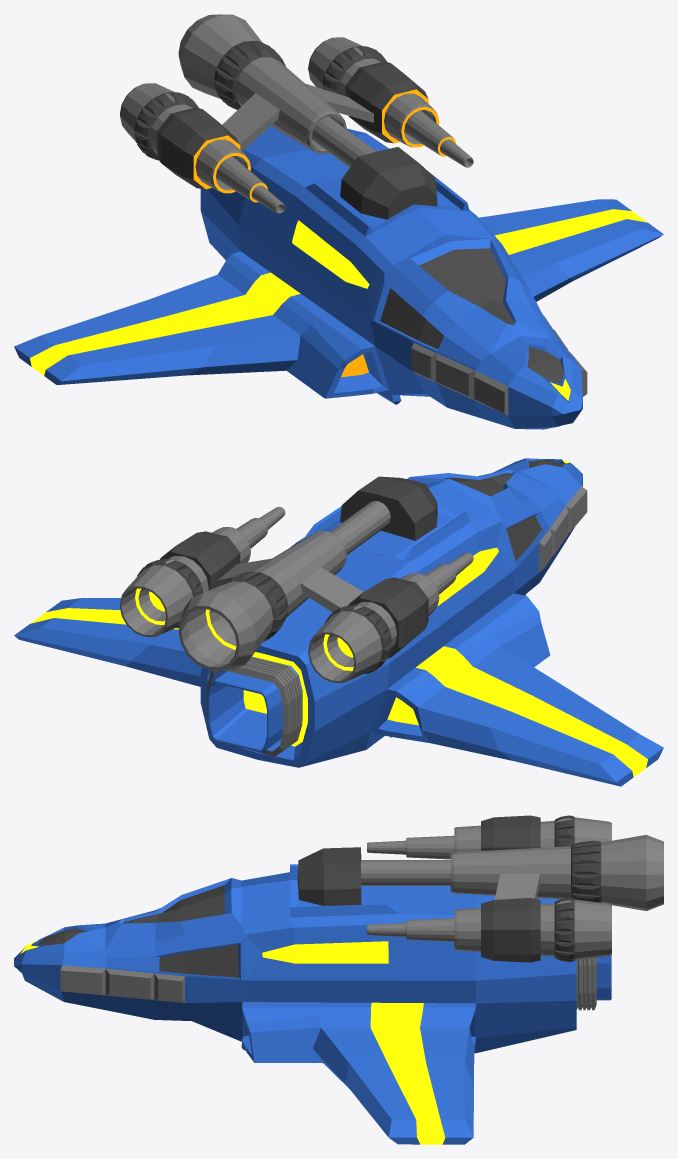
File: Spaceship.fbx
3 views of the same model, one above another, from view 1: azimuth 30°, elevation 25°; view 2: azimuth 150°, elevation 25°; view 3: azimuth 270°, elevation 25° (orthographic). The views are drawn at different scales.
Visible parts, largest first — view 1: Cube; view 2: Cube; view 3: Cube.
Boxes of the visible parts, left/top/right/bottom form: Cube: left=14, top=14, right=663, bottom=429; Cube: left=14, top=458, right=663, bottom=786; Cube: left=14, top=815, right=663, bottom=1144.
Size of the model in its own units: 1118 by 400 by 1167.
